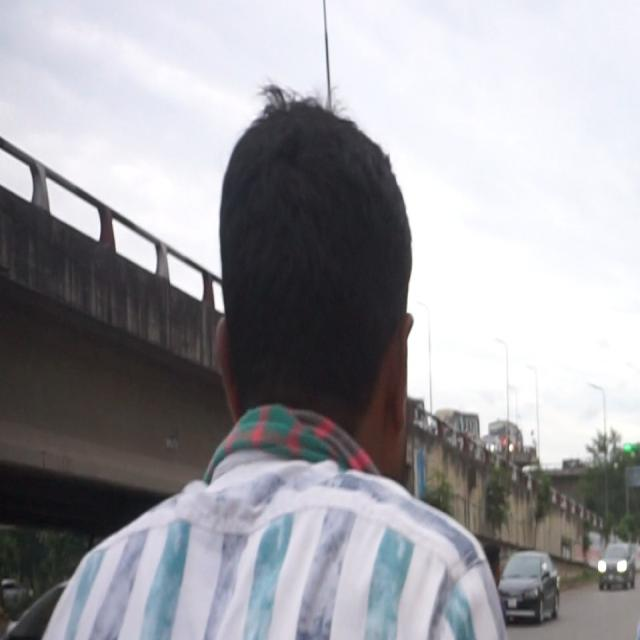car: (492, 543, 563, 633)
